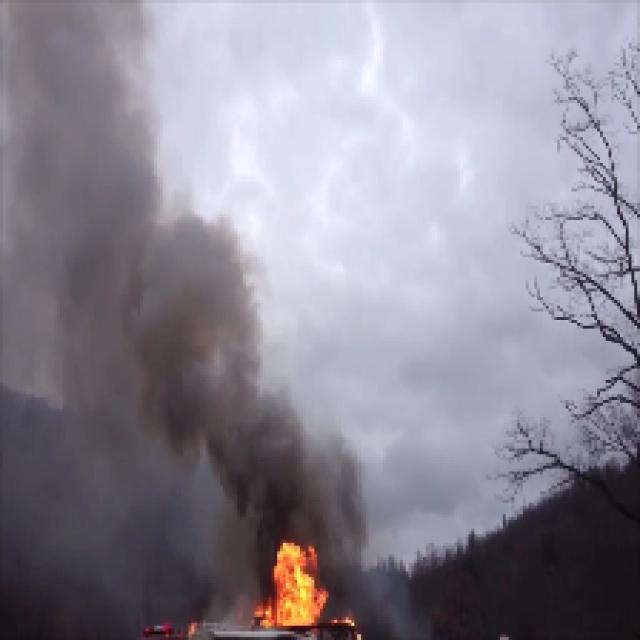smoke: (3, 2, 158, 476), (169, 212, 259, 498), (266, 408, 359, 541)
